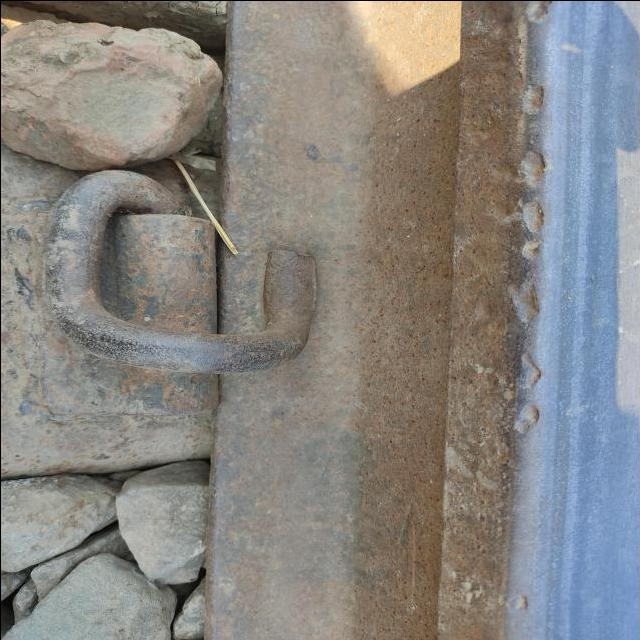squats_high: (503, 281, 543, 321), (506, 400, 542, 434), (520, 147, 548, 185), (518, 350, 542, 388), (522, 81, 546, 115), (520, 200, 546, 231), (525, 0, 553, 21), (518, 239, 545, 260), (512, 590, 532, 613)
